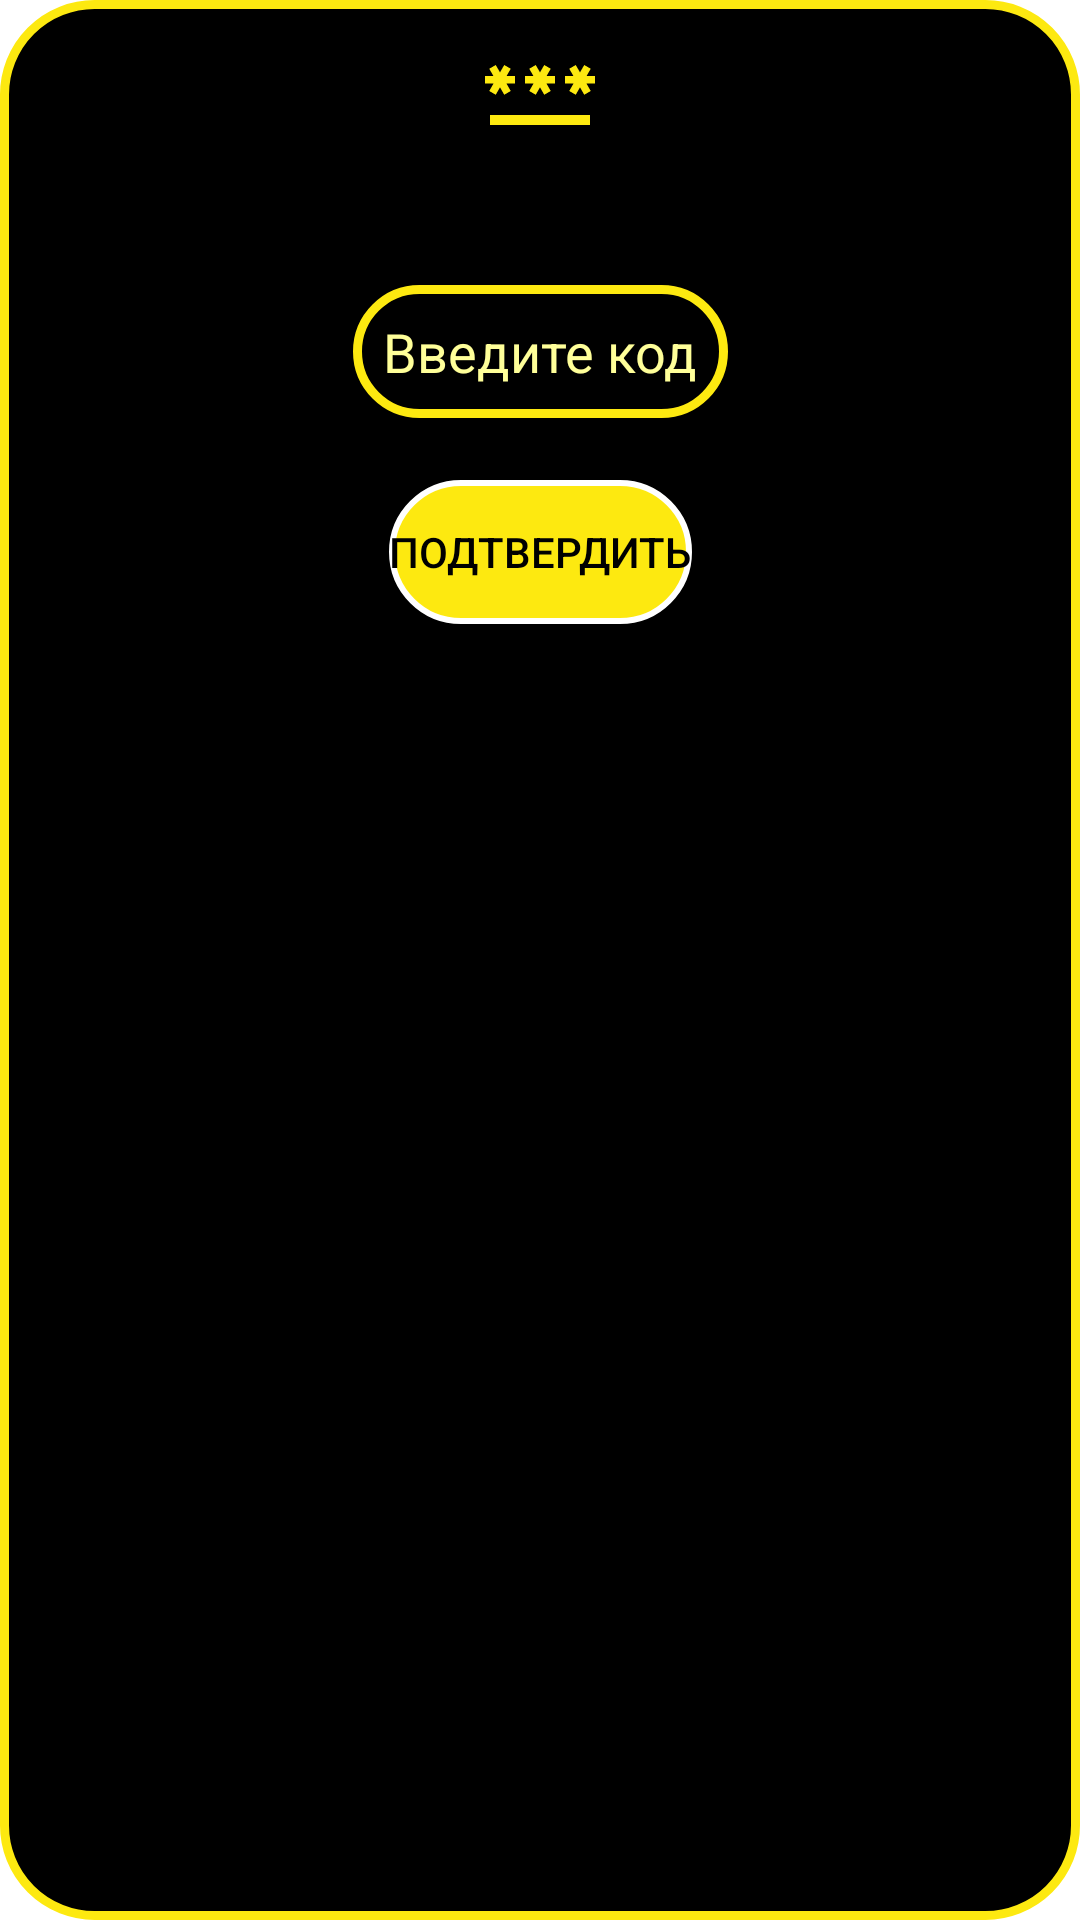

Where icons sit on this 1080w x 1920h app screen, as (x1, y1, x2, y2):
password: (485, 65, 595, 125)
